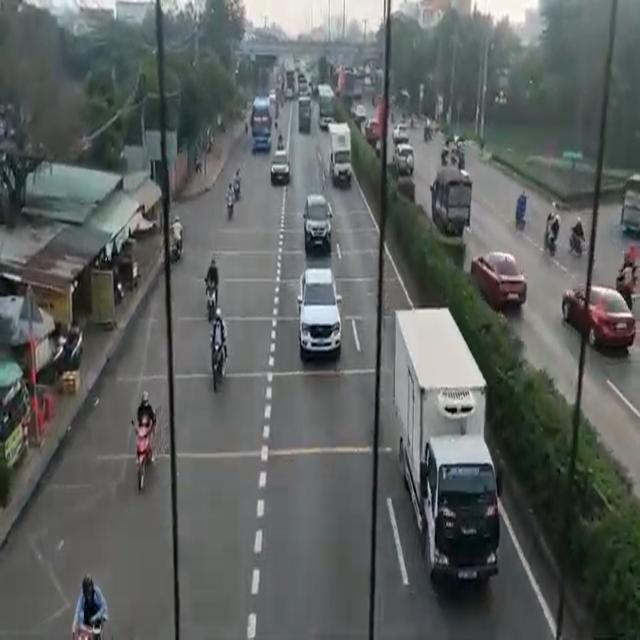bus: (252, 94, 274, 156)
car: (565, 283, 635, 349), (300, 271, 346, 365), (474, 246, 526, 303), (304, 200, 332, 258), (274, 145, 289, 183), (396, 147, 412, 175)
motor: (68, 573, 112, 640), (209, 313, 231, 394), (134, 392, 151, 486), (202, 255, 222, 312), (543, 188, 557, 260), (569, 206, 583, 258), (514, 184, 526, 236), (223, 176, 235, 227)
truck: (394, 311, 502, 585), (434, 172, 474, 230), (327, 123, 351, 191), (622, 180, 640, 231), (315, 86, 333, 116), (298, 100, 311, 134)
